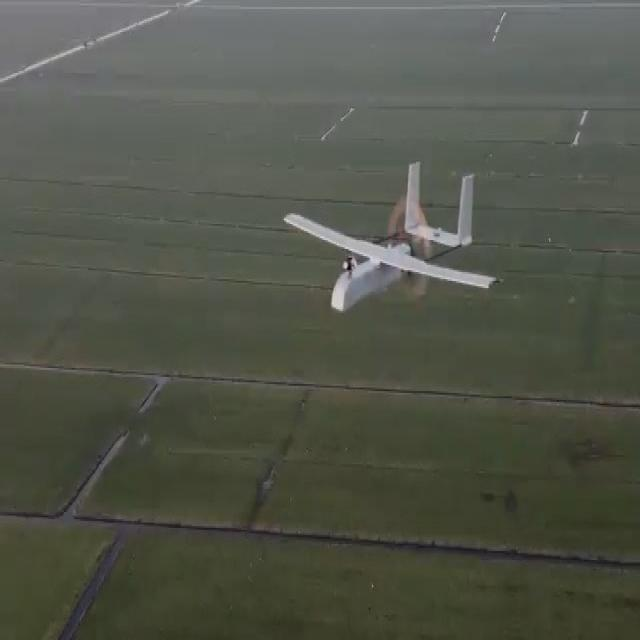iha: (279, 154, 496, 336)
